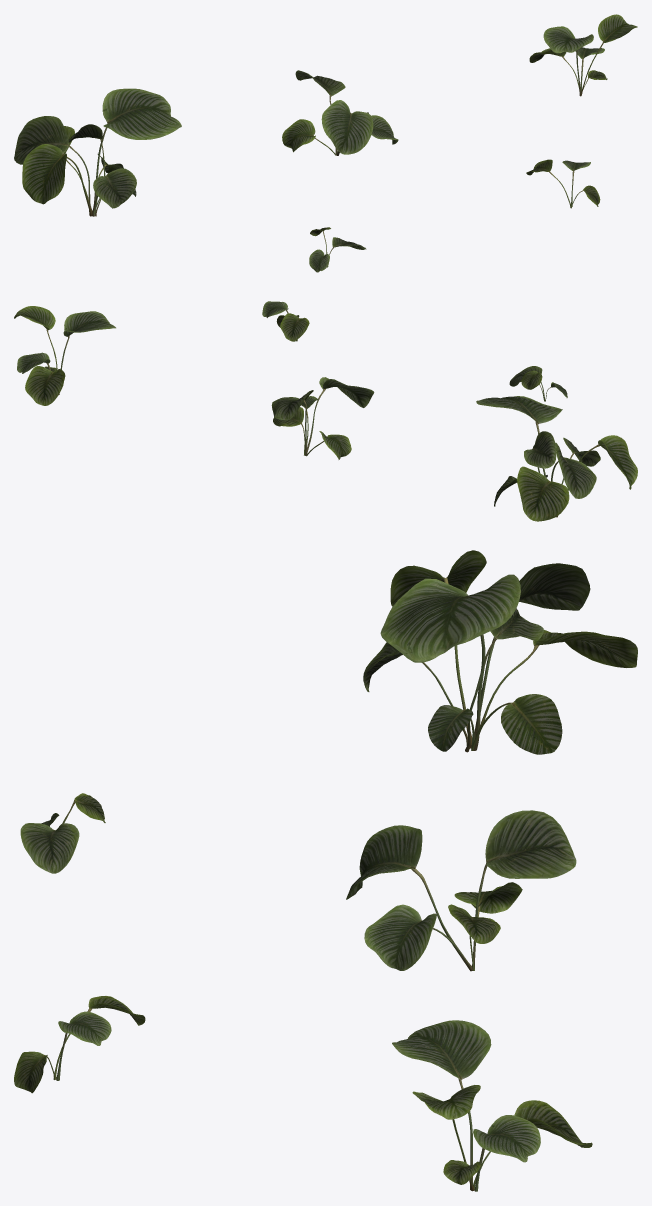
The model's file is calathea_orbifolia_01.glb.
The picture shows the model from 3 angles, top to bottom: view 1: azimuth 30°, elevation 25°; view 2: azimuth 150°, elevation 25°; view 3: azimuth 270°, elevation 25°; orthographic projection. The views are drawn at different scales.
Parts seen in each view (by area): view 1: calathea_orbifolia_01_a, calathea_orbifolia_01_b, calathea_orbifolia_01_c, calathea_orbifolia_01_e, calathea_orbifolia_01_d; view 2: calathea_orbifolia_01_a, calathea_orbifolia_01_c, calathea_orbifolia_01_b, calathea_orbifolia_01_e, calathea_orbifolia_01_d; view 3: calathea_orbifolia_01_a, calathea_orbifolia_01_b, calathea_orbifolia_01_c, calathea_orbifolia_01_e, calathea_orbifolia_01_d.
Part boxes in pixels (bbox=[...]): calathea_orbifolia_01_a: bbox=[14, 88, 181, 216]; calathea_orbifolia_01_b: bbox=[282, 70, 398, 155]; calathea_orbifolia_01_c: bbox=[529, 14, 637, 96]; calathea_orbifolia_01_e: bbox=[526, 159, 600, 208]; calathea_orbifolia_01_d: bbox=[309, 227, 366, 272]; calathea_orbifolia_01_a: bbox=[476, 396, 637, 521]; calathea_orbifolia_01_c: bbox=[14, 306, 115, 405]; calathea_orbifolia_01_b: bbox=[271, 377, 374, 459]; calathea_orbifolia_01_e: bbox=[262, 301, 309, 341]; calathea_orbifolia_01_d: bbox=[509, 366, 567, 401]; calathea_orbifolia_01_a: bbox=[363, 550, 637, 754]; calathea_orbifolia_01_b: bbox=[346, 810, 576, 971]; calathea_orbifolia_01_c: bbox=[392, 1020, 592, 1191]; calathea_orbifolia_01_e: bbox=[14, 996, 145, 1093]; calathea_orbifolia_01_d: bbox=[20, 793, 105, 873].
Bounding box in the file's own units: 2.49 × 0.4243 × 1.19.
Materials: 1 (1 with a texture image).
